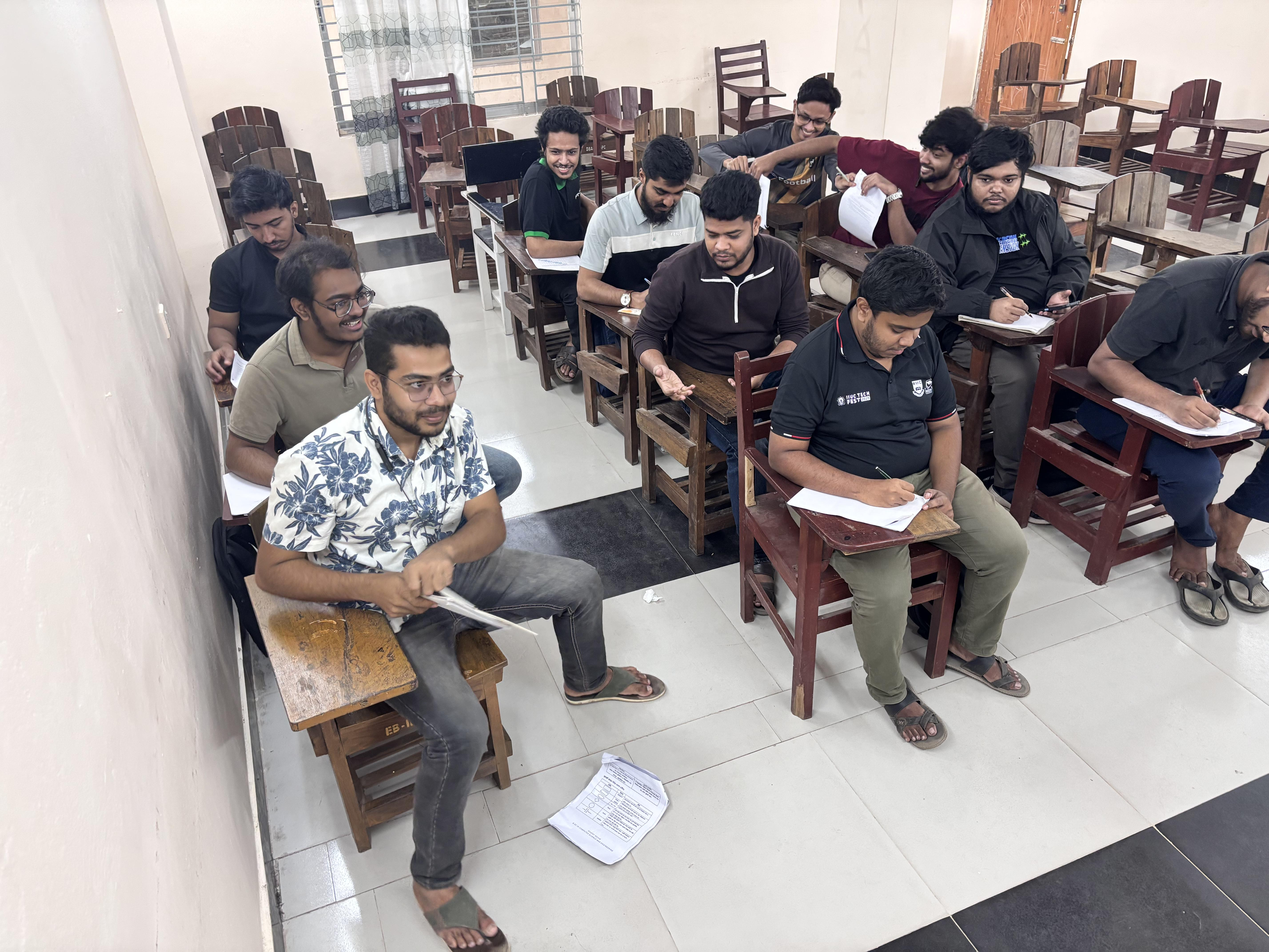copying: (633, 172, 803, 442)
exchanging_sheets: (722, 70, 974, 222)
hidden_communication: (253, 340, 606, 699)
no_cheating: (775, 245, 1009, 689), (1087, 221, 1269, 597), (180, 168, 300, 374)
side_talking: (479, 87, 603, 323)
using_phone: (926, 114, 1091, 342)
